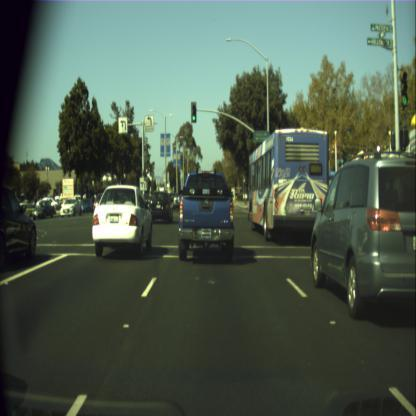Green: (400, 70, 408, 107), (191, 100, 196, 122)
